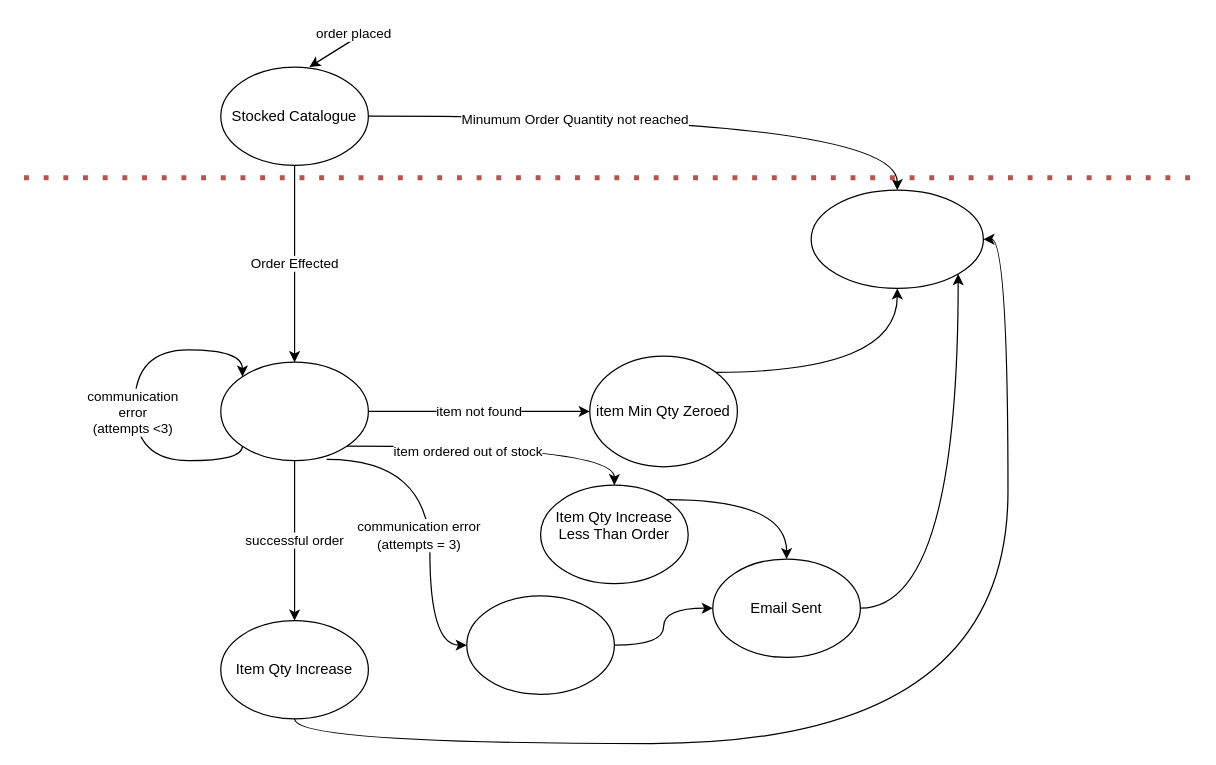
Some shapes in this 1216 by 765 pixel diagram are drawn without their labels. The shapes that lost their labels are listed below. From the top down, each one's centre as x and y in pixels, then its label:
At (896,238): "Item Num Times Sold Incremented".
At (294,411): "Catalogue Pre Order".
At (540,644): "Communication Error".
